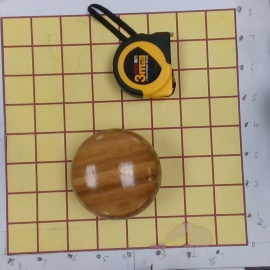chess: (70, 128, 161, 220)
